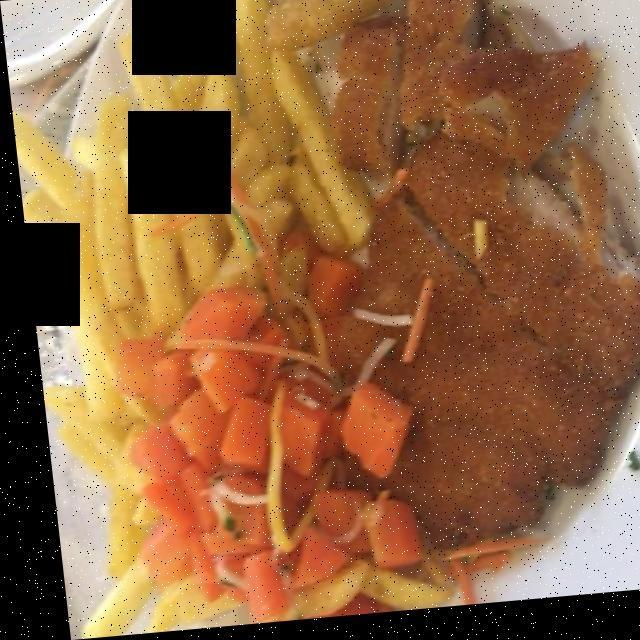breadcrumbs: (329, 13, 630, 534)
carrot: (109, 234, 405, 606)
chips-french-fries: (13, 0, 384, 630)
